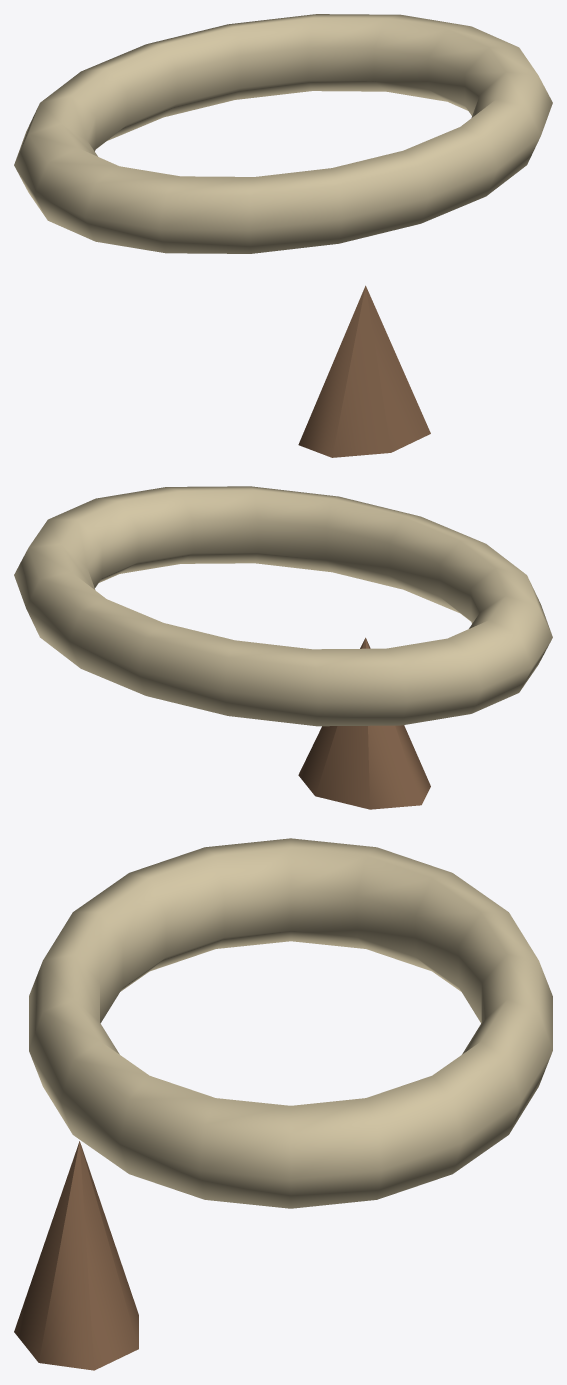
Rendered from wearable.glb.
3 views of the same model, one above another, from view 1: azimuth 30°, elevation 25°; view 2: azimuth 150°, elevation 25°; view 3: azimuth 270°, elevation 25° (orthographic). The views are drawn at different scales.
Visible parts, largest first — view 1: wearable_band, wearable_charm; view 2: wearable_band, wearable_charm; view 3: wearable_band, wearable_charm.
Part boxes in pixels (x1,y1,x2,y2): wearable_band: [14, 14, 552, 253]; wearable_charm: [298, 285, 430, 457]; wearable_band: [14, 486, 552, 726]; wearable_charm: [298, 637, 430, 809]; wearable_band: [29, 838, 552, 1208]; wearable_charm: [14, 1141, 138, 1370].
Bounding box in the file's own units: 0.63 × 0.3339 × 0.4594.
